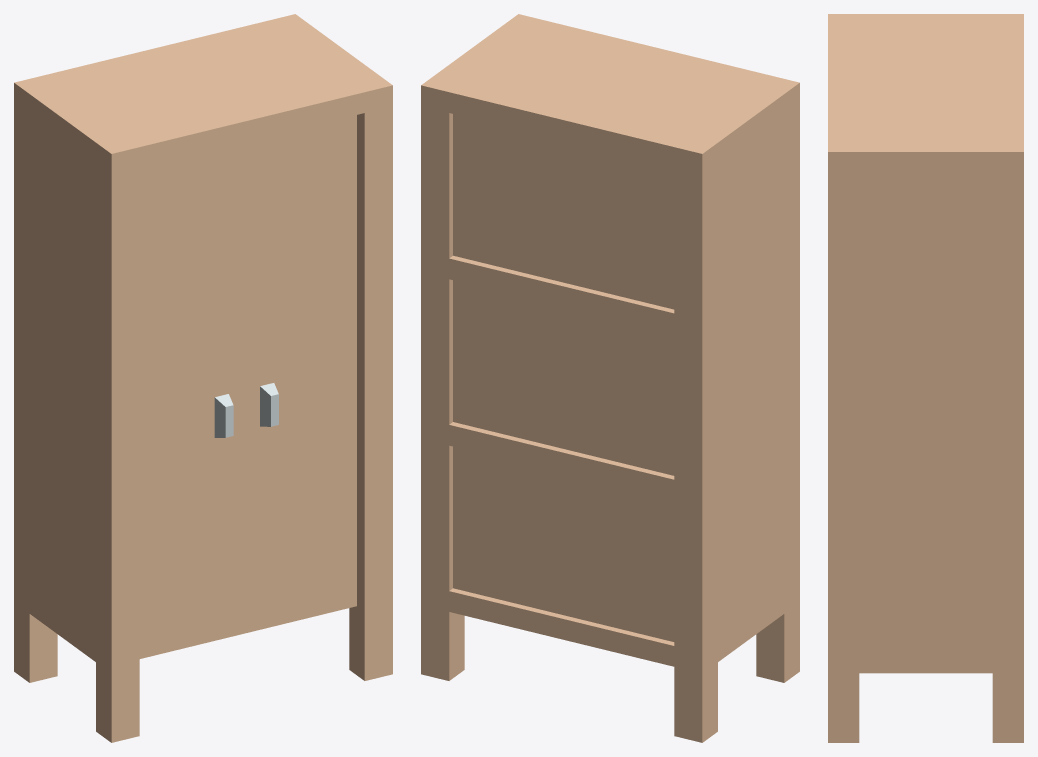
Rendered from wardrobe.glb.
3 renders of one model, left to right at view 1: azimuth 30°, elevation 25°; view 2: azimuth 150°, elevation 25°; view 3: azimuth 270°, elevation 25°, orthographic.
Visible parts, largest first — view 1: bookcaseClosedDoors(Clone), doorRight_e6b234, doorLeft_5ed6bb, doorLeft_c25695, doorRight_55e073; view 2: bookcaseClosedDoors(Clone); view 3: bookcaseClosedDoors(Clone).
Boxes of the visible parts, left/top/right/bottom form: bookcaseClosedDoors(Clone): left=14, top=14, right=392, bottom=742; doorRight_e6b234: left=244, top=115, right=356, bottom=623; doorLeft_5ed6bb: left=139, top=142, right=244, bottom=648; doorLeft_c25695: left=214, top=394, right=233, bottom=437; doorRight_55e073: left=260, top=383, right=278, bottom=426; bookcaseClosedDoors(Clone): left=421, top=14, right=799, bottom=742; bookcaseClosedDoors(Clone): left=828, top=14, right=1023, bottom=742.
Bounding box in the file's own units: 1 × 2 × 0.6.
